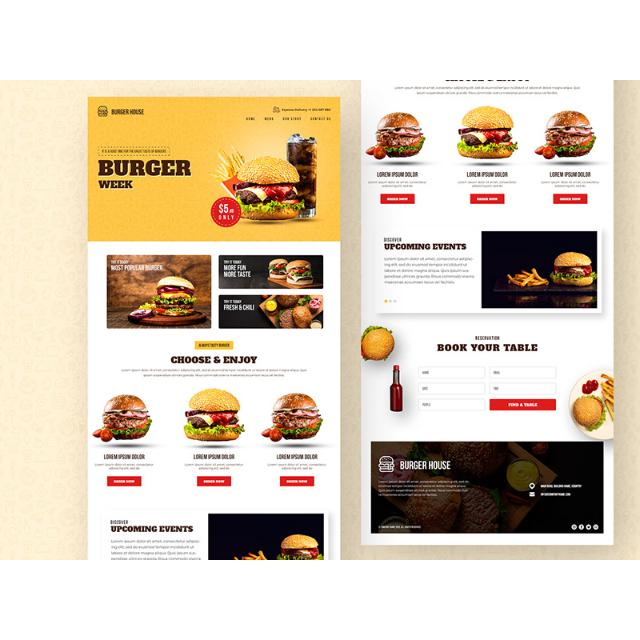QLabel: (99, 152, 195, 198), (110, 538, 202, 560), (394, 85, 580, 95), (378, 479, 468, 496), (120, 369, 308, 377), (109, 519, 195, 533), (437, 344, 538, 352), (169, 356, 259, 364), (400, 460, 450, 470), (367, 180, 429, 188), (94, 462, 154, 470), (267, 462, 327, 470), (457, 180, 517, 188), (540, 180, 600, 188), (184, 462, 243, 470), (376, 170, 418, 178), (102, 454, 146, 460), (192, 454, 236, 460), (276, 454, 318, 460), (466, 171, 508, 177), (549, 172, 591, 178), (281, 108, 331, 112), (198, 342, 230, 348), (540, 484, 582, 488), (541, 492, 571, 496), (474, 336, 500, 340), (476, 197, 498, 201), (378, 526, 420, 528), (282, 117, 302, 121), (310, 117, 330, 121), (203, 481, 225, 484), (508, 404, 538, 406), (286, 480, 308, 482), (559, 198, 581, 200), (245, 117, 255, 121), (264, 117, 274, 121), (114, 480, 134, 482), (388, 198, 408, 200)
VBtn: (489, 398, 556, 412), (196, 475, 232, 487), (280, 475, 314, 487), (194, 340, 233, 350), (380, 193, 414, 204), (470, 193, 504, 204), (554, 193, 588, 204), (106, 476, 142, 486)
VCarousel: (375, 229, 601, 313)
VFooter: (370, 441, 604, 533)
VIcon: (272, 106, 280, 114), (529, 482, 535, 490), (571, 524, 577, 530), (578, 524, 584, 530), (586, 524, 592, 530), (592, 524, 598, 530), (530, 492, 534, 496)
VImg: (208, 131, 320, 229), (106, 254, 212, 328), (208, 512, 324, 560), (534, 106, 604, 166), (181, 388, 249, 449), (262, 390, 332, 448), (90, 392, 162, 448), (456, 106, 520, 166), (218, 254, 324, 290), (218, 294, 324, 330), (365, 111, 433, 167), (96, 105, 146, 119), (379, 456, 395, 472)
VTextField: (418, 366, 486, 378), (418, 382, 486, 394), (418, 399, 486, 411), (489, 382, 557, 394), (489, 366, 556, 378)
